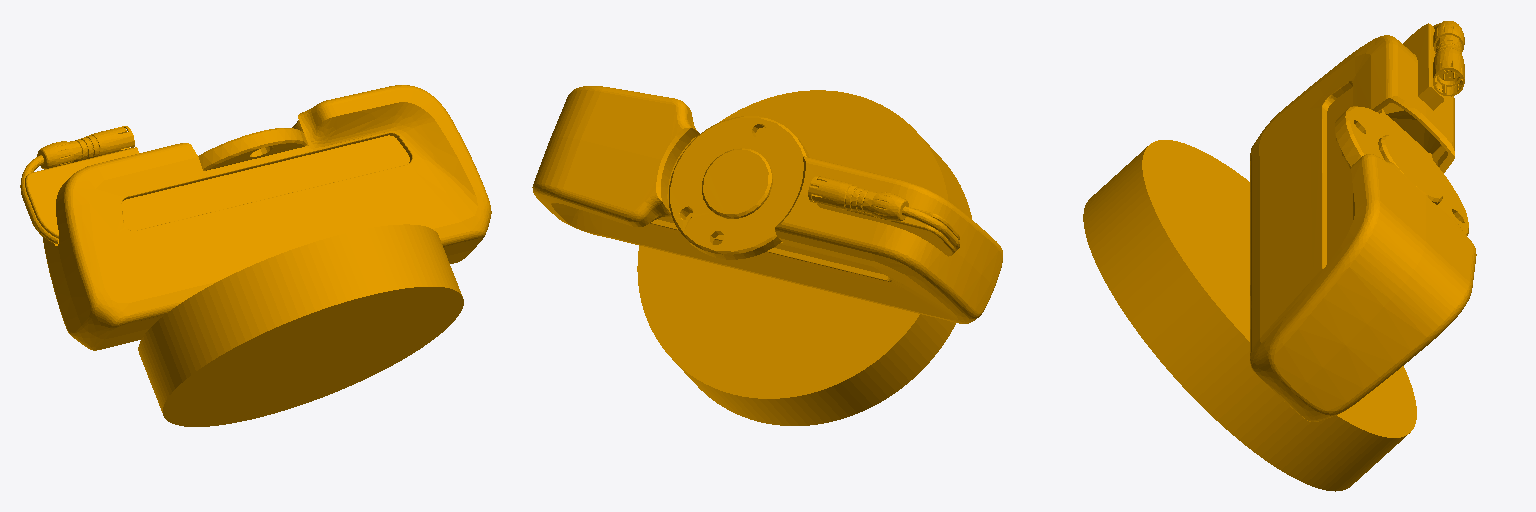
robot.urdf — panda:
<?xml version="1.0" ?>
<robot name="panda" xmlns:xacro="http://www.ros.org/wiki/xacro">
  <link name="panda_link0">
    <visual>
      <geometry>
        <mesh filename="../../meshes/robot/visual/link0.dae"/>
      </geometry>
    </visual>
    <collision>
      <geometry>
        <mesh filename="../../meshes/robot/collision/link0.obj"/>
      </geometry>
    </collision>
  </link>
  <link name="panda_link1">
    <visual>
      <geometry>
        <mesh filename="../../meshes/robot/visual/link1.dae"/>
      </geometry>
    </visual>
    <collision>
      <geometry>
        <mesh filename="../../meshes/robot/collision/link1.obj"/>
      </geometry>
    </collision>
  </link>
  <joint name="panda_joint1" type="revolute">
    <safety_controller k_position="100.0" k_velocity="40.0" soft_lower_limit="-2.8973" soft_upper_limit="2.8973"/>
    <origin rpy="0 0 0" xyz="0 0 0.333"/>
    <parent link="panda_link0"/>
    <child link="panda_link1"/>
    <axis xyz="0 0 1"/>
    <dynamics damping="10.0"/>
    <limit effort="87" lower="-2.8973" upper="2.8973" velocity="2.1750"/>
  </joint>
  <link name="panda_link2">
    <visual>
      <geometry>
        <mesh filename="../../meshes/robot/visual/link2.dae"/>
      </geometry>
    </visual>
    <collision>
      <geometry>
        <mesh filename="../../meshes/robot/collision/link2.obj"/>
      </geometry>
    </collision>
  </link>
  <joint name="panda_joint2" type="revolute">
    <safety_controller k_position="100.0" k_velocity="40.0" soft_lower_limit="-1.7628" soft_upper_limit="1.7628"/>
    <origin rpy="-1.57079632679 0 0" xyz="0 0 0"/>
    <parent link="panda_link1"/>
    <child link="panda_link2"/>
    <axis xyz="0 0 1"/>
    <dynamics damping="10.0"/>
    <limit effort="87" lower="-1.7628" upper="1.7628" velocity="2.1750"/>
  </joint>
  <link name="panda_link3">
    <visual>
      <geometry>
        <mesh filename="../../meshes/robot/visual/link3.dae"/>
      </geometry>
    </visual>
    <collision>
      <geometry>
        <mesh filename="../../meshes/robot/collision/link3.obj"/>
      </geometry>
    </collision>
  </link>
  <joint name="panda_joint3" type="revolute">
    <safety_controller k_position="100.0" k_velocity="40.0" soft_lower_limit="-2.8973" soft_upper_limit="2.8973"/>
    <origin rpy="1.57079632679 0 0" xyz="0 -0.316 0"/>
    <parent link="panda_link2"/>
    <child link="panda_link3"/>
    <axis xyz="0 0 1"/>
    <dynamics damping="10.0"/>
    <limit effort="87" lower="-2.8973" upper="2.8973" velocity="2.1750"/>
  </joint>
  <link name="panda_link4">
    <visual>
      <geometry>
        <mesh filename="../../meshes/robot/visual/link4.dae"/>
      </geometry>
    </visual>
    <collision>
      <geometry>
        <mesh filename="../../meshes/robot/collision/link4.obj"/>
      </geometry>
    </collision>
  </link>
  <joint name="panda_joint4" type="revolute">
    <safety_controller k_position="100.0" k_velocity="40.0" soft_lower_limit="-3.0718" soft_upper_limit="-0.0698"/>
    <origin rpy="1.57079632679 0 0" xyz="0.0825 0 0"/>
    <parent link="panda_link3"/>
    <child link="panda_link4"/>
    <axis xyz="0 0 1"/>    
    <dynamics damping="10.0"/>
    <limit effort="87" lower="-3.0718" upper="-0.0698" velocity="2.1750"/>
    <!-- something is weird with this joint limit config
    <dynamics damping="10.0"/>
    <limit effort="87" lower="-3.0" upper="0.087" velocity="2.1750"/>  -->
  </joint>
  <link name="panda_link5">
    <visual>
      <geometry>
        <mesh filename="../../meshes/robot/visual/link5.dae"/>
      </geometry>
    </visual>
    <collision>
      <geometry>
        <mesh filename="../../meshes/robot/collision/link5.obj"/>
      </geometry>
    </collision>
  </link>
  <joint name="panda_joint5" type="revolute">
    <safety_controller k_position="100.0" k_velocity="40.0" soft_lower_limit="-2.8973" soft_upper_limit="2.8973"/>
    <origin rpy="-1.57079632679 0 0" xyz="-0.0825 0.384 0"/>
    <parent link="panda_link4"/>
    <child link="panda_link5"/>
    <axis xyz="0 0 1"/>
    <dynamics damping="10.0"/>
    <limit effort="12" lower="-2.8973" upper="2.8973" velocity="2.6100"/>
  </joint>
  <link name="panda_link6">
    <visual>
      <geometry>
        <mesh filename="../../meshes/robot/visual/link6.dae"/>
      </geometry>
    </visual>
    <collision>
      <geometry>
        <mesh filename="../../meshes/robot/collision/link6.obj"/>
      </geometry>
    </collision>
  </link>
  <joint name="panda_joint6" type="revolute">
    <safety_controller k_position="100.0" k_velocity="40.0" soft_lower_limit="-0.0175" soft_upper_limit="3.7525"/>
    <origin rpy="1.57079632679 0 0" xyz="0 0 0"/>
    <parent link="panda_link5"/>
    <child link="panda_link6"/>
    <axis xyz="0 0 1"/>
    <dynamics damping="10.0"/>
    <limit effort="12" lower="-0.0175" upper="3.7525" velocity="2.6100"/>
    <!-- <dynamics damping="10.0"/>
    <limit effort="12" lower="-0.0873" upper="3.0" velocity="2.6100"/> -->
  </joint>
  <link name="panda_link7">
    <visual>
      <geometry>
        <mesh filename="../../meshes/robot/visual/link7.dae"/>
      </geometry>
    </visual>
    <collision>
      <geometry>
        <mesh filename="../../meshes/robot/collision/link7.obj"/>
      </geometry>
    </collision>
  </link>
  <joint name="panda_joint7" type="revolute">
    <safety_controller k_position="100.0" k_velocity="40.0" soft_lower_limit="-2.8973" soft_upper_limit="2.8973"/>
    <origin rpy="1.57079632679 0 0" xyz="0.088 0 0"/>
    <parent link="panda_link6"/>
    <child link="panda_link7"/>
    <axis xyz="0 0 1"/>
    <dynamics damping="10.0"/>
    <limit effort="12" lower="-2.8973" upper="2.8973" velocity="2.6100"/>
  </joint>
  <!--
  <link name="panda_link8"/>
  <joint name="panda_joint8" type="fixed">
    <origin rpy="0 0 0" xyz="0 0 0.107"/>
    <parent link="panda_link7"/>
    <child link="panda_link8"/>
    <axis xyz="0 0 0"/>
  </joint>
  Removing this joint seems to help with some stability things
  -->
  <joint name="panda_hand_joint" type="fixed">
    <!--
    <parent link="panda_link8"/>
    -->
    <parent link="panda_link7"/>
    <child link="panda_hand"/>
    <origin rpy="0 0 -0.785398163397" xyz="0 0 0.107"/>
    <!--
    <origin rpy="0 0 -0.785398163397" xyz="0 0 0"/>
    -->
  </joint>

  
  <!-- ########################### Tube ########################### -->

  <link name="panda_hand">
    <visual>
      <geometry>
        <mesh filename="../../meshes/robot/visual/hand_connector.dae"/>
      </geometry>
    </visual>
    <collision>
      <geometry>
        <mesh filename="../../meshes/robot/collision/hand_connector.obj"/>
      </geometry>
    </collision>
  </link>

  <joint name = "hand_to_tube" type = "fixed">
		<origin xyz = "0.0 0.0 0.0" rpy = "0 0 0"/>
		<parent link = "panda_hand"/>
		<child link = "tube"/>
  </joint>

  <link name="tube">
    <fem>
        <origin rpy="0 0 0" xyz="0.5 0.5 0"/>
        <density value="1e3"/>
        <youngs value="1e10"/>
        <poissons value="0.31645428"/>
        <damping value="0.0"/>
        <attachDistance value="1e-3"/>
        <tetmesh filename="../../meshes/tubes/64x80/sparse/tube.tet"/>
        <scale value="0.001"/>
    </fem>
  </link>

  <!-- <joint name = "tube_to_up" type = "fixed">
    <origin xyz = "0.0 0.0 0.0" rpy = "0 0 0"/>
    <parent link = "tube"/>
    <child link = "up"/>
  </joint>

  <link name="up">    
    <visual>
        <origin rpy="0.0 0.0 0.0" xyz="0.0 0.0 0.0"/>
        <geometry>
            <mesh filename="../../meshes/tubes/64x80/up.obj" scale="0.001 0.001 0.001"/>
        </geometry>
    </visual>
    <collision>
        <origin rpy="0.0 0.0 0.0" xyz="0.0 0.0 0.0"/>
        <geometry>
            <mesh filename="../../meshes/tubes/64x80/up.obj" scale="0.001 0.001 0.001"/>
            <scale value="0.001"/>
        </geometry>
    </collision>
  </link> -->
  
</robot>



--- Render facts (derived) ---
Views: 3 orthographic renders of the robot side by side, from view 1: azimuth 30°, elevation 25°; view 2: azimuth 150°, elevation 25°; view 3: azimuth 270°, elevation 25°.
Model panda with 10 links and 9 joints (7 revolute, 2 fixed), rooted at panda_link0, posed joints at zero except 1 at the middle of their limits (panda_joint4 = -1.57).
Visible links, largest first — view 1: panda_hand; view 2: panda_hand; view 3: panda_hand.
Link boxes in pixels (x1,y1,x2,y2): panda_hand: [20, 85, 491, 426]; panda_hand: [532, 86, 1002, 425]; panda_hand: [1083, 21, 1476, 491].
Size in the robot's own frame: 0.2045 by 0.1417 by 0.1417 metres.
Meshes: 9 distinct files referenced, 1 mesh visuals loaded (1 Collada DAE); not drawn: 8 (reference not matched to a file when rendering).